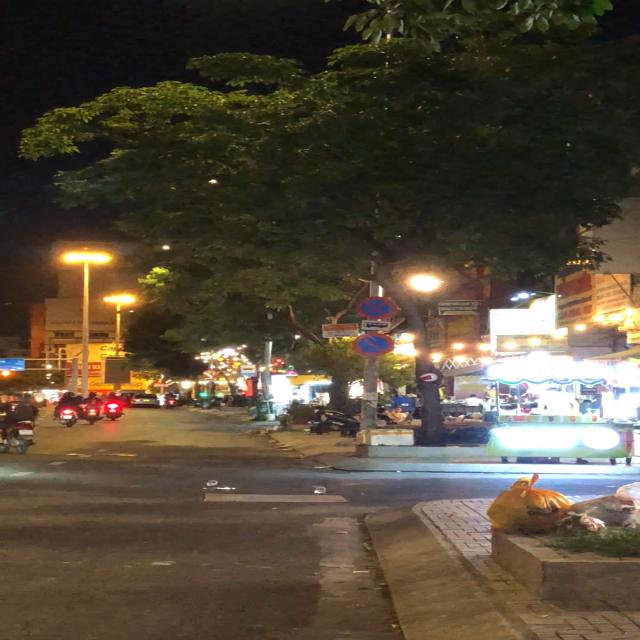Bien bao cam do xe: (354, 332, 397, 358)
Bien bao cam dung xe va do xe: (354, 295, 398, 321)
